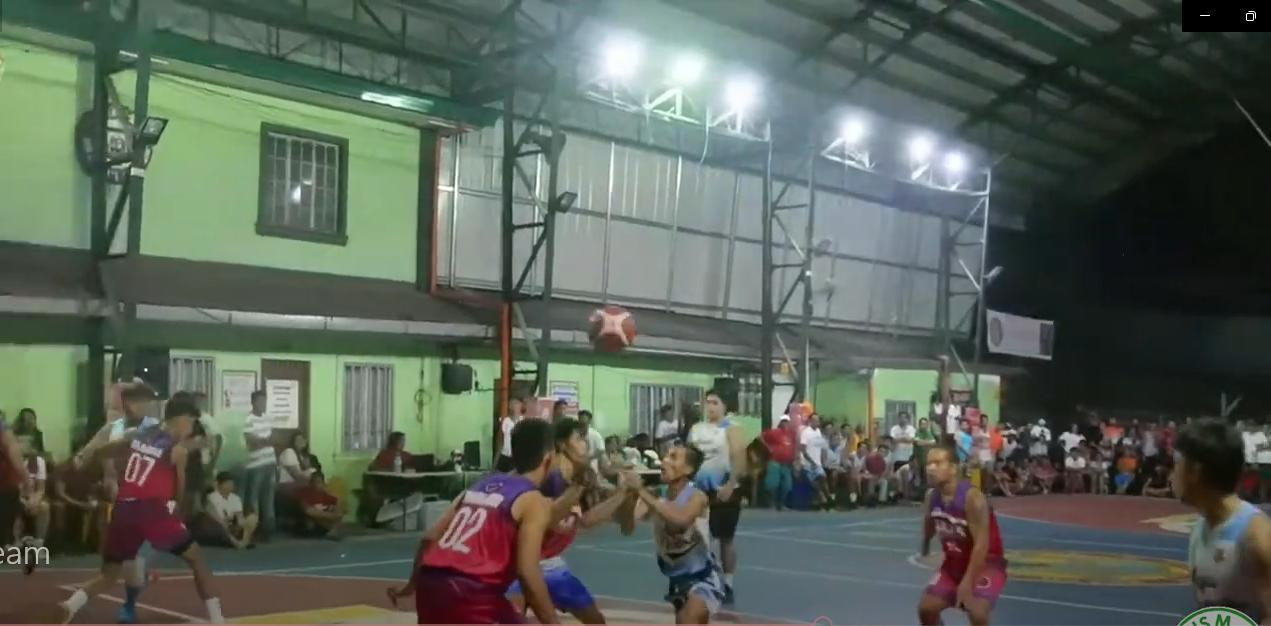ball: (580, 297, 645, 357)
human: (48, 370, 235, 626), (376, 403, 564, 626), (1143, 405, 1271, 626), (896, 428, 1019, 626), (617, 427, 732, 626), (531, 413, 609, 626), (690, 387, 752, 599)
